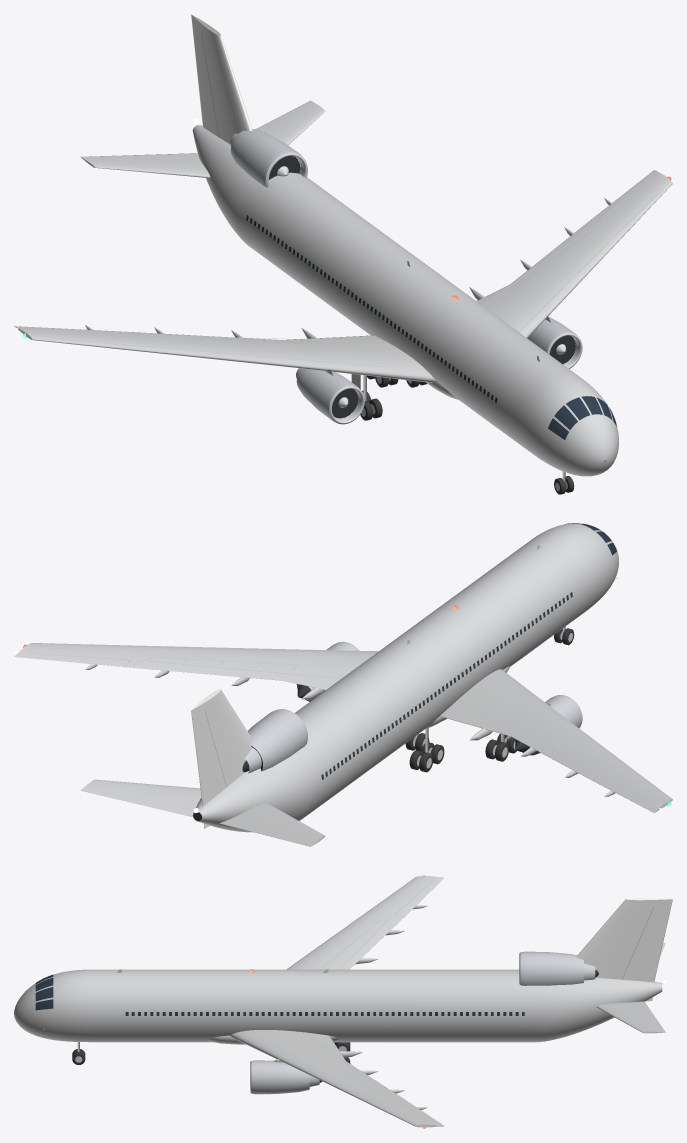
3 renders of one model, top to bottom at view 1: azimuth 30°, elevation 25°; view 2: azimuth 150°, elevation 25°; view 3: azimuth 270°, elevation 25°, orthographic. The views are drawn at different scales.
Parts seen in each view (by area): view 1: airframe, gear; view 2: airframe, gear; view 3: airframe, gear.
Part boxes in pixels (x1=…): airframe: x1=14, y1=14, x2=672, y2=476; gear: x1=351, y1=374, x2=574, y2=494; airframe: x1=14, y1=523, x2=672, y2=846; gear: x1=405, y1=626, x2=574, y2=772; airframe: x1=14, y1=875, x2=672, y2=1128; gear: x1=72, y1=1041, x2=350, y2=1064.
Size of the model in its own units: 50.96 by 15.46 by 56.41.
